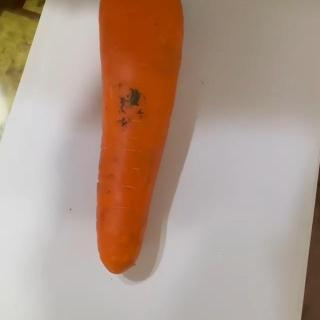carrot: (93, 0, 189, 275)
